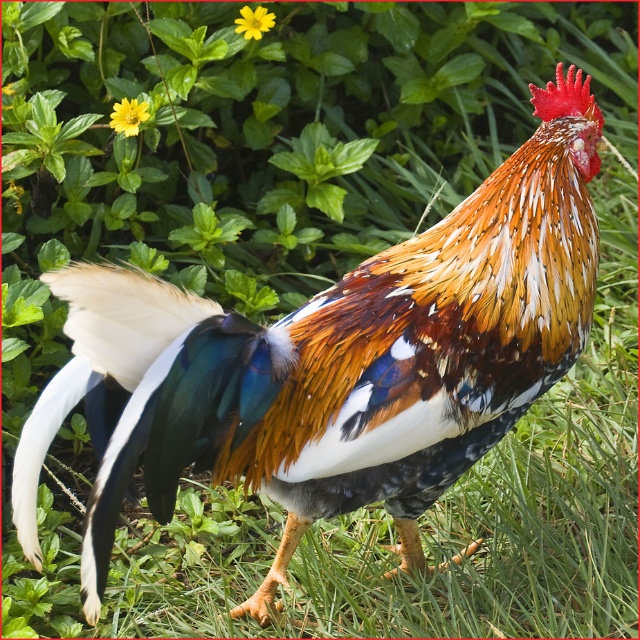Chicken: (0, 56, 614, 634)
